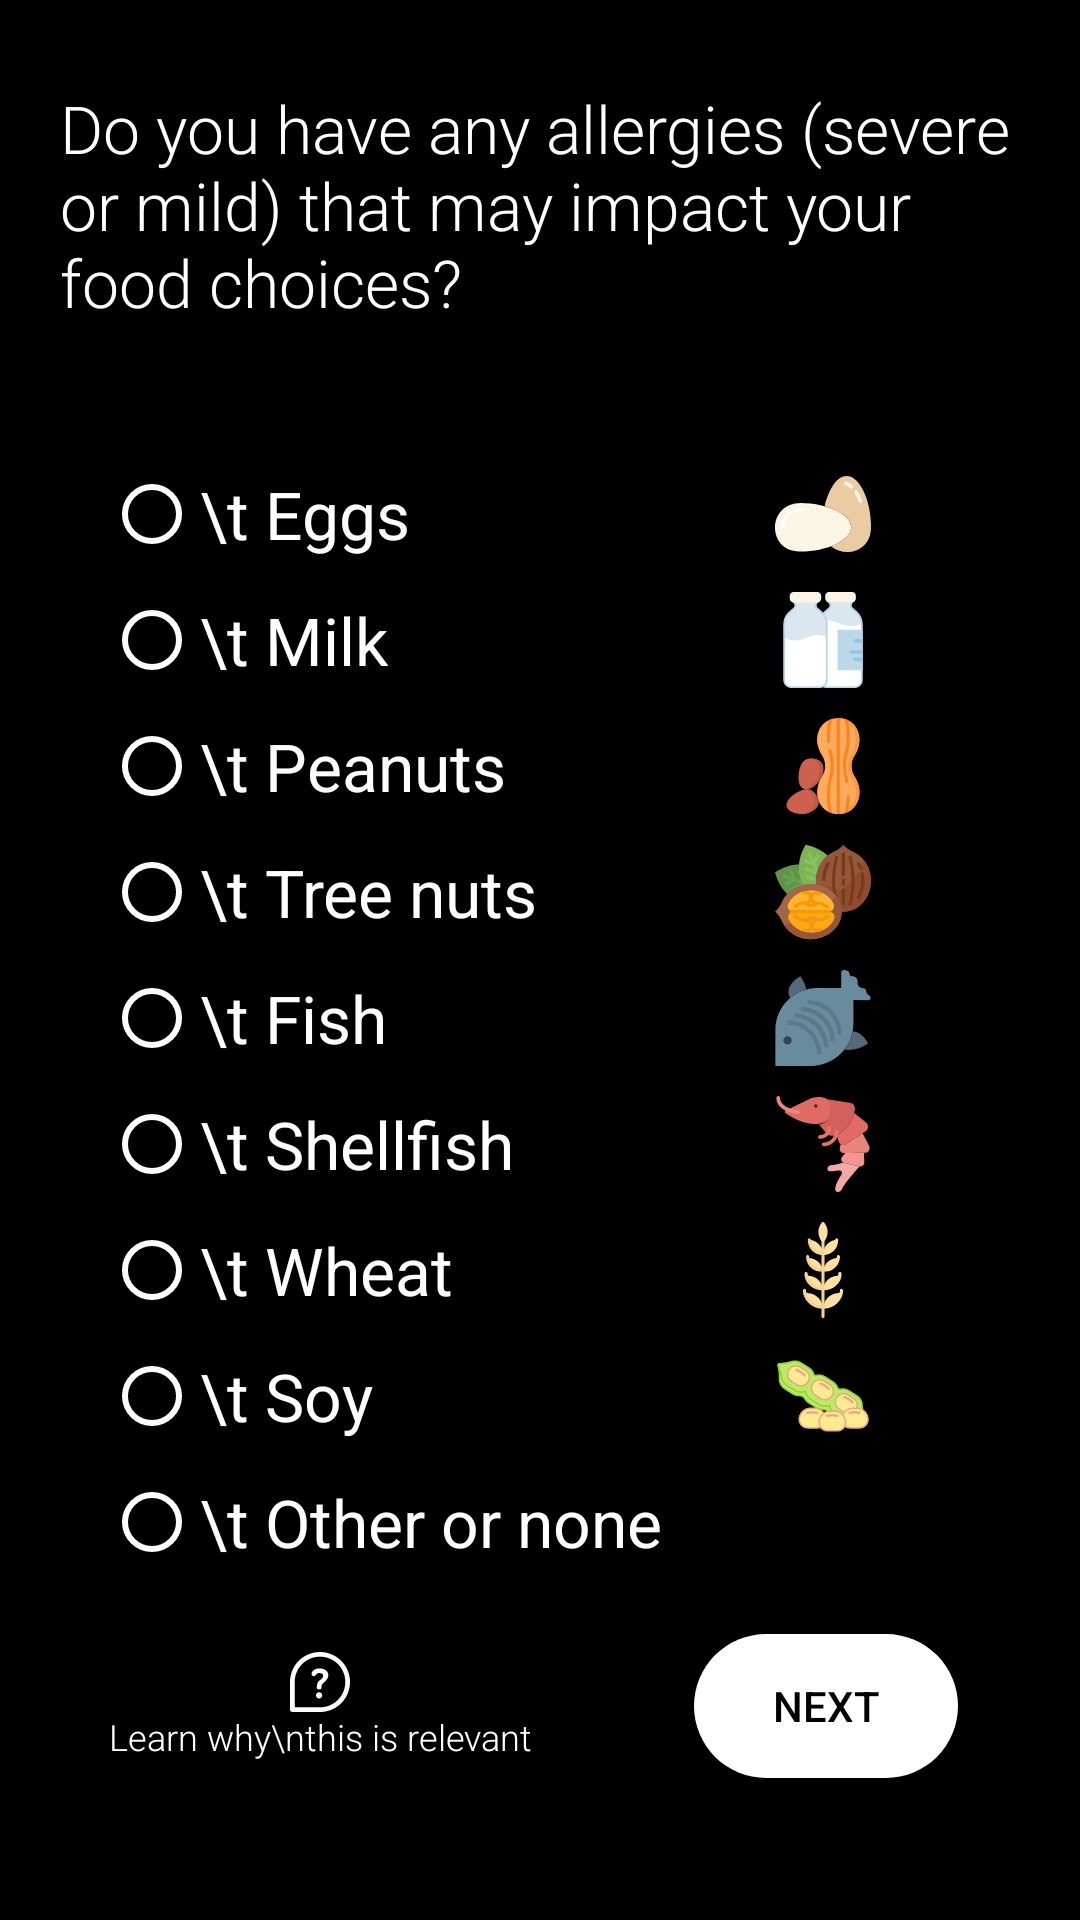

Named icons in this screenshot (1080*1920) and their bounding boxes, (x1, y1, x2, y2):
eggs: (775, 476, 871, 552)
fish: (775, 970, 871, 1066)
milk: (783, 592, 863, 688)
peanut: (786, 718, 860, 814)
question: (290, 1652, 350, 1712)
shrimp: (776, 1096, 870, 1192)
soy beans: (777, 1360, 869, 1432)
walnut: (775, 845, 871, 940)
wheat: (803, 1222, 843, 1318)
